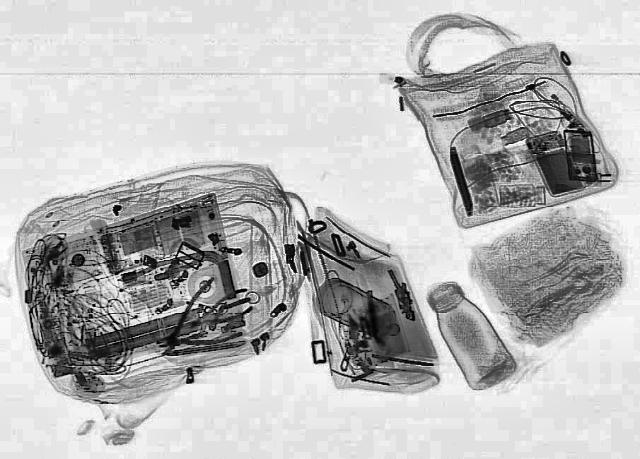Pliers: (127, 276, 270, 368), (179, 285, 265, 335)
